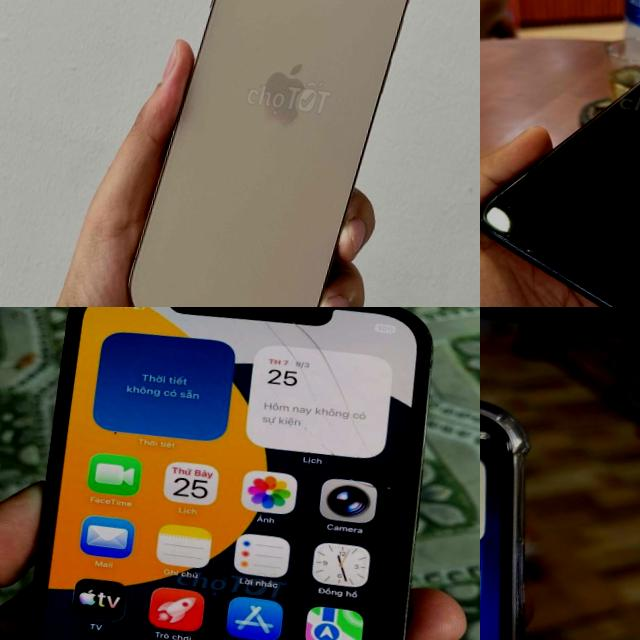gen_12_13: (0, 307, 460, 640), (118, 0, 444, 307), (480, 353, 592, 640)
gen_7_8: (480, 81, 640, 307)
